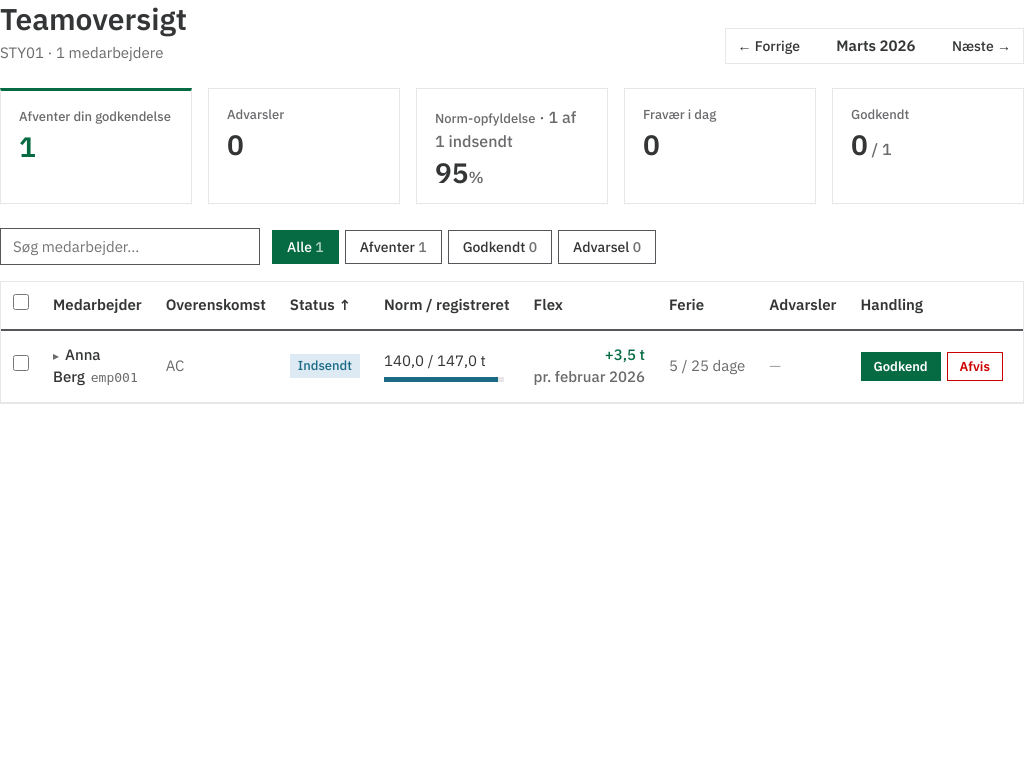
Scenario: TeamRowDetail — accordion expand/collapse › the toggle is a real button with aria-expanded that flips on click
Check: the text "Anna Berg" is shown, box [53,344,101,386]
Click the button named "detaljer for Anna Berg". click: click(59, 355)
box: [53,348,65,362]
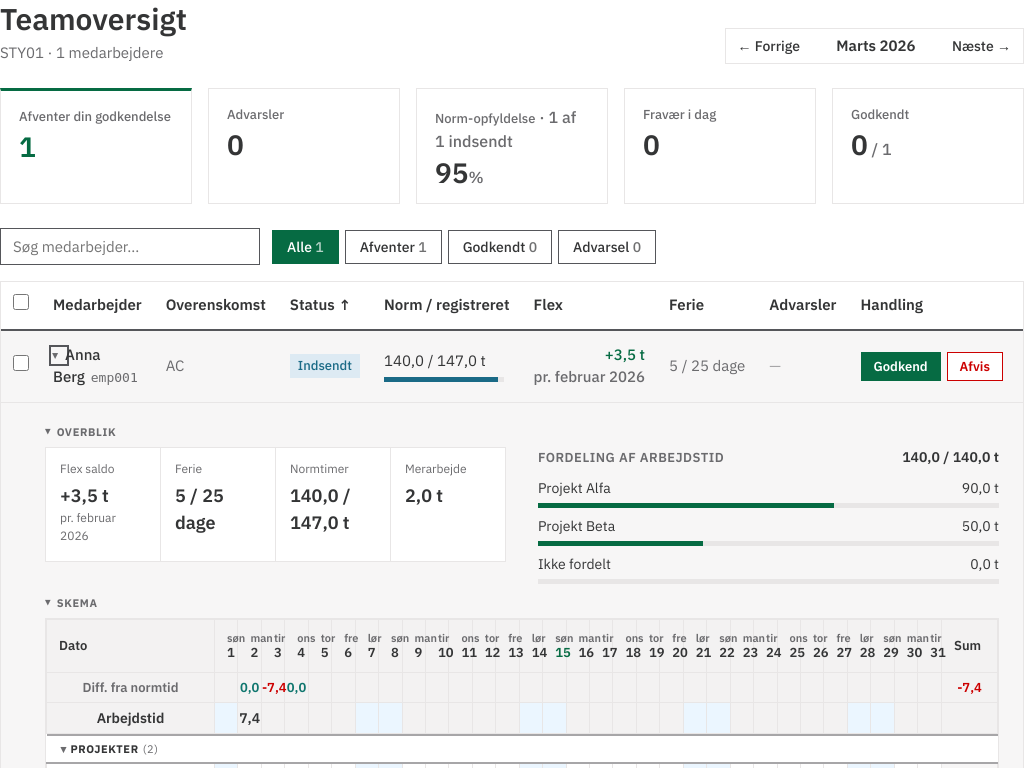
Check: the button named "detaljer for Anna Berg" is expanded
Click the button named "detaljer for Anna Berg". click: click(59, 355)
box: [53,348,65,362]
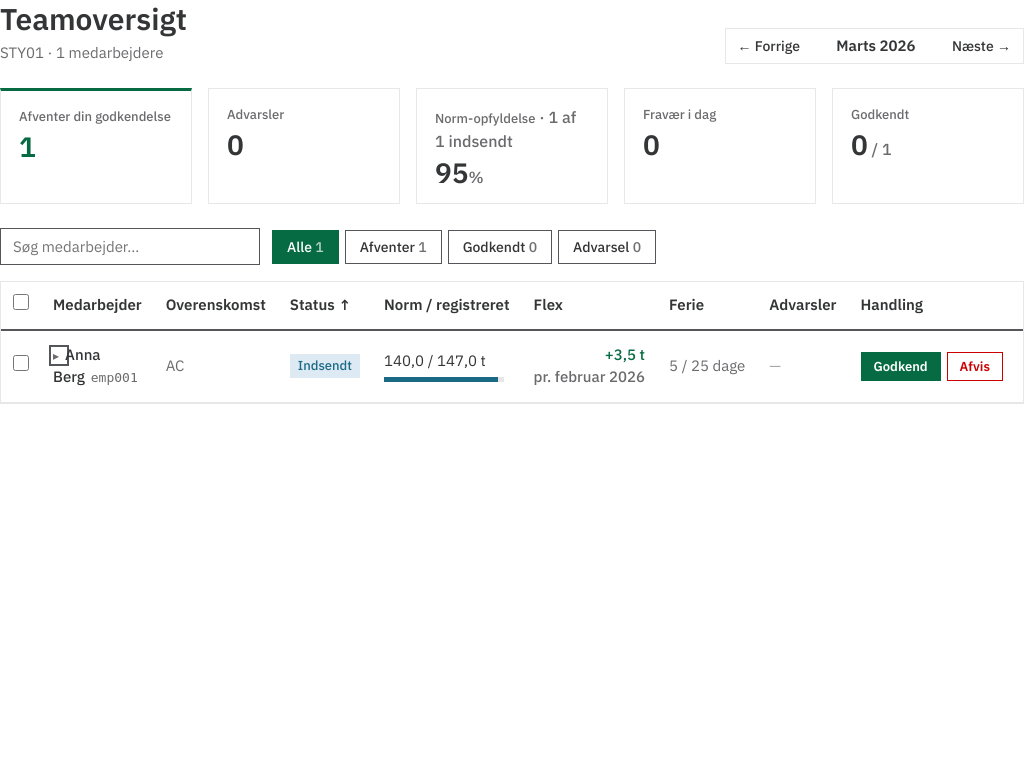
Check: the button named "detaljer for Anna Berg" is collapsed, box [53,348,65,362]
